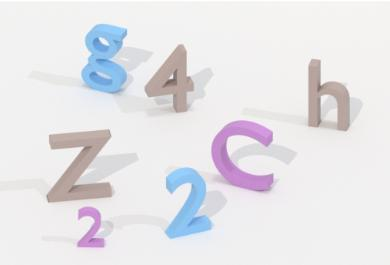2: (156, 164, 217, 242)
4: (140, 41, 198, 117)
C: (205, 117, 278, 195)
Z: (43, 121, 114, 205)
g: (81, 20, 130, 95)
h: (303, 54, 354, 136)
